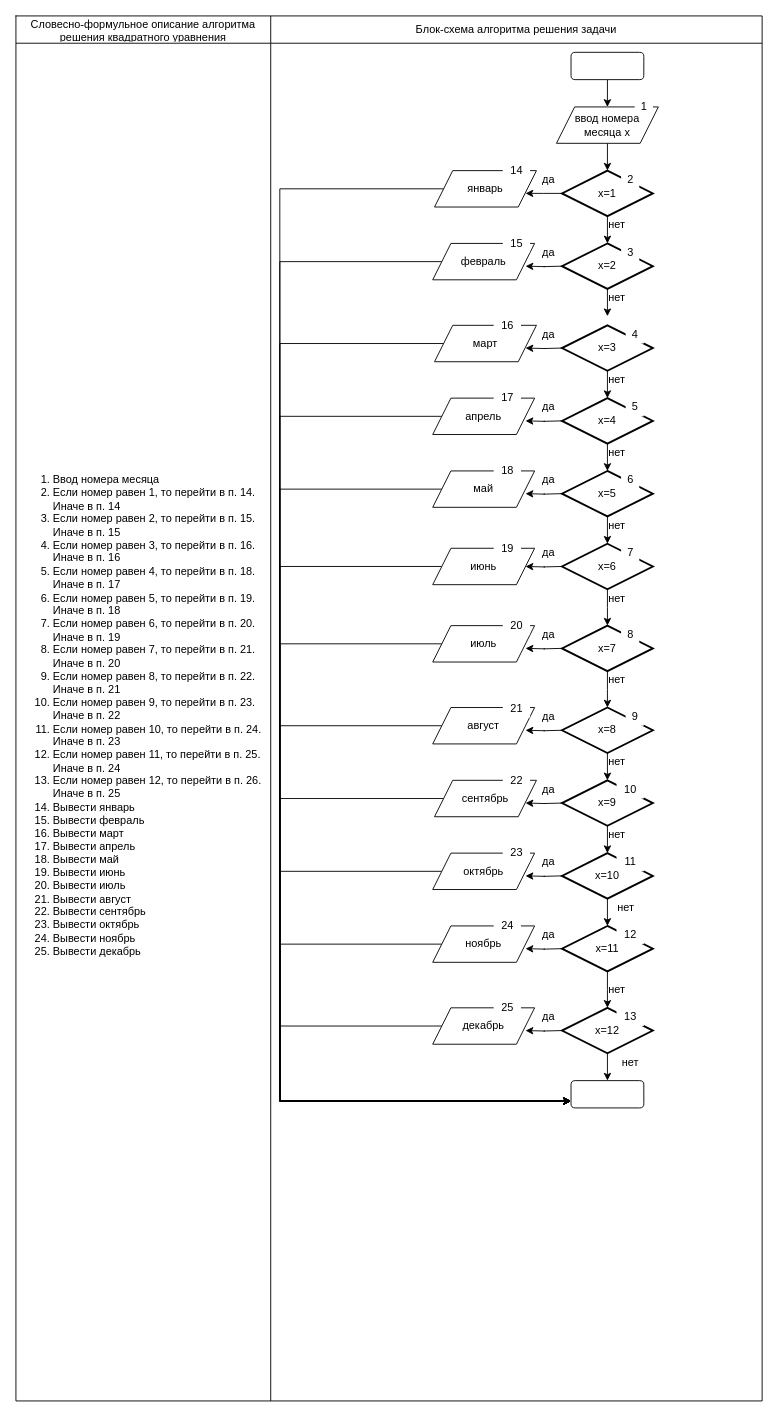
Some shapes in this 778 by 1417 pixel diagram are drawn without their labels. Here are the shapes that lost their labels. From the top down, the centre of each, then its label:
At point (607, 65): "начало".
At point (607, 1094): "конец".
